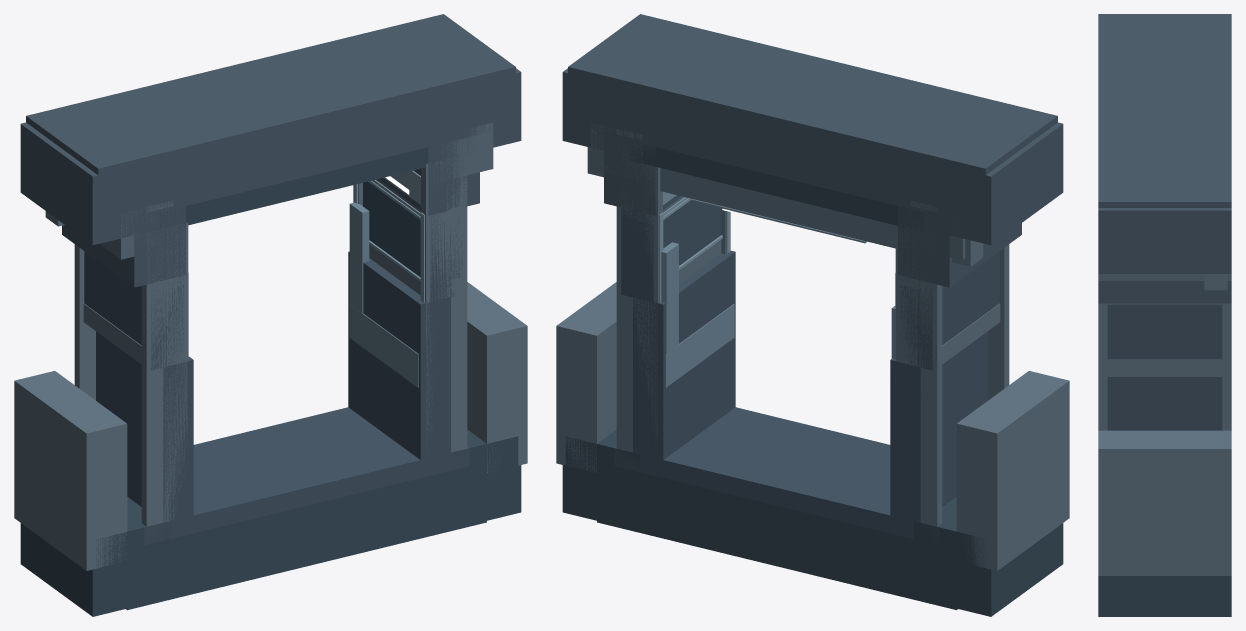
Rendered from continuum-graphite-bays-v5.gltf.
The picture shows the model from 3 angles, left to right: view 1: azimuth 30°, elevation 25°; view 2: azimuth 150°, elevation 25°; view 3: azimuth 270°, elevation 25°; orthographic projection. The views are drawn at different scales.
Parts seen in each view (by area): view 1: PANORAMA_START_SHELL, SERVICE_SHELL, PANORAMA_START_INLAY, PANORAMA_END_SHELL, GATE_INLAY; view 2: PANORAMA_START_SHELL, PANORAMA_END_SHELL, SERVICE_SHELL, GATE_SHELL, PANORAMA_START_INLAY, GATE_INLAY; view 3: PANORAMA_START_SHELL, SERVICE_SHELL, PANORAMA_END_SHELL, GATE_SHELL.
Part boxes in pixels (<box>): PANORAMA_START_SHELL: <box>14,14,527,616</box>; SERVICE_SHELL: <box>84,181,462,370</box>; PANORAMA_START_INLAY: <box>188,170,424,387</box>; PANORAMA_END_SHELL: <box>74,183,362,400</box>; GATE_INLAY: <box>349,202,369,313</box>; PANORAMA_START_SHELL: <box>556,14,1069,616</box>; PANORAMA_END_SHELL: <box>616,155,942,526</box>; SERVICE_SHELL: <box>621,200,999,370</box>; GATE_SHELL: <box>587,147,983,266</box>; PANORAMA_START_INLAY: <box>663,192,734,387</box>; GATE_INLAY: <box>661,199,895,358</box>; PANORAMA_START_SHELL: <box>1098,14,1231,616</box>; SERVICE_SHELL: <box>1107,304,1222,359</box>; PANORAMA_END_SHELL: <box>1222,303,1231,430</box>; GATE_SHELL: <box>1204,274,1227,290</box>.
Bounding box in the file's own units: 56.4 × 54.8 × 16.
